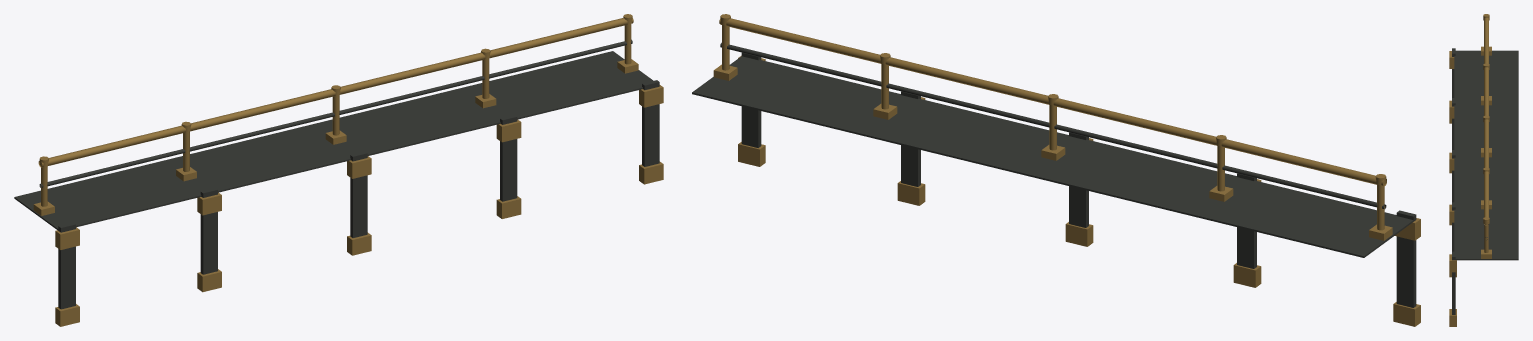
File: parapet_rail_8.glb
3 renders of one model, left to right at view 1: azimuth 30°, elevation 25°; view 2: azimuth 150°, elevation 25°; view 3: azimuth 270°, elevation 25°, orthographic. The views are drawn at different scales.
Visible parts, largest first — view 1: parapet_rail_8; view 2: parapet_rail_8; view 3: parapet_rail_8.
Part boxes in pixels (left/top/right/bottom): parapet_rail_8: left=14, top=14, right=663, bottom=326; parapet_rail_8: left=692, top=14, right=1420, bottom=326; parapet_rail_8: left=1449, top=14, right=1518, bottom=326.
Size of the model in its own units: 8.06 by 1.88 by 1.12.
